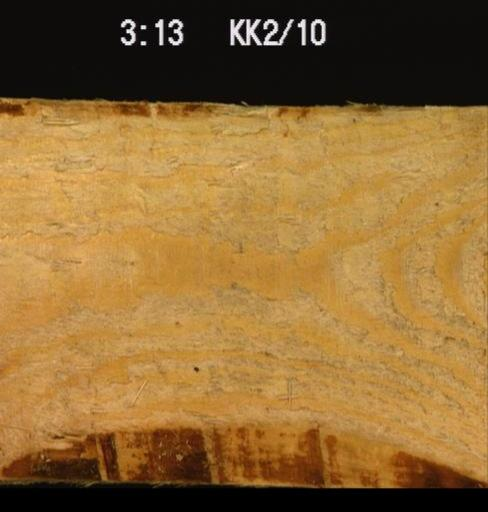wave: (0, 422, 486, 487), (0, 90, 425, 126)
